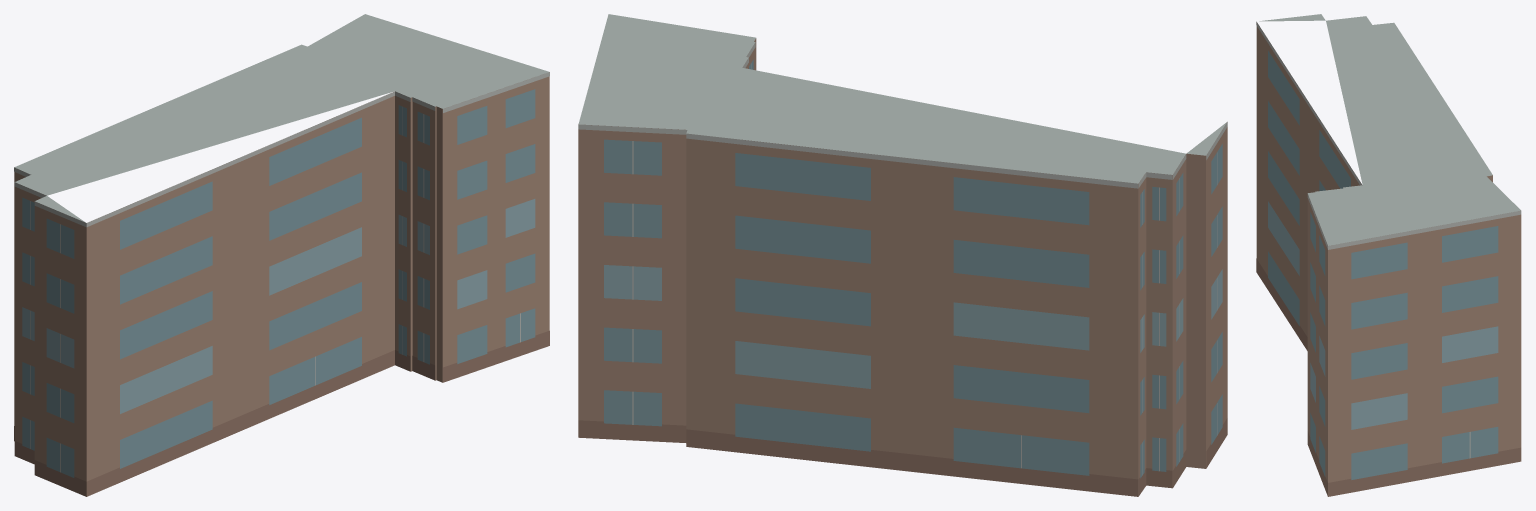
Rendered from survey-upis-32979020.glb.
3 views of the same model, side by side, from view 1: azimuth 30°, elevation 25°; view 2: azimuth 150°, elevation 25°; view 3: azimuth 270°, elevation 25° (orthographic). The views are drawn at different scales.
Parts seen in each view (by area): view 1: survey-upis-32979020.tmp; view 2: survey-upis-32979020.tmp; view 3: survey-upis-32979020.tmp.
Boxes of the visible parts, box(x1,y1,x2,y2) form: survey-upis-32979020.tmp: box(14, 14, 549, 496); survey-upis-32979020.tmp: box(578, 14, 1227, 496); survey-upis-32979020.tmp: box(1256, 14, 1521, 496).
Size of the model in its own units: 30.24 by 15.25 by 14.6.
